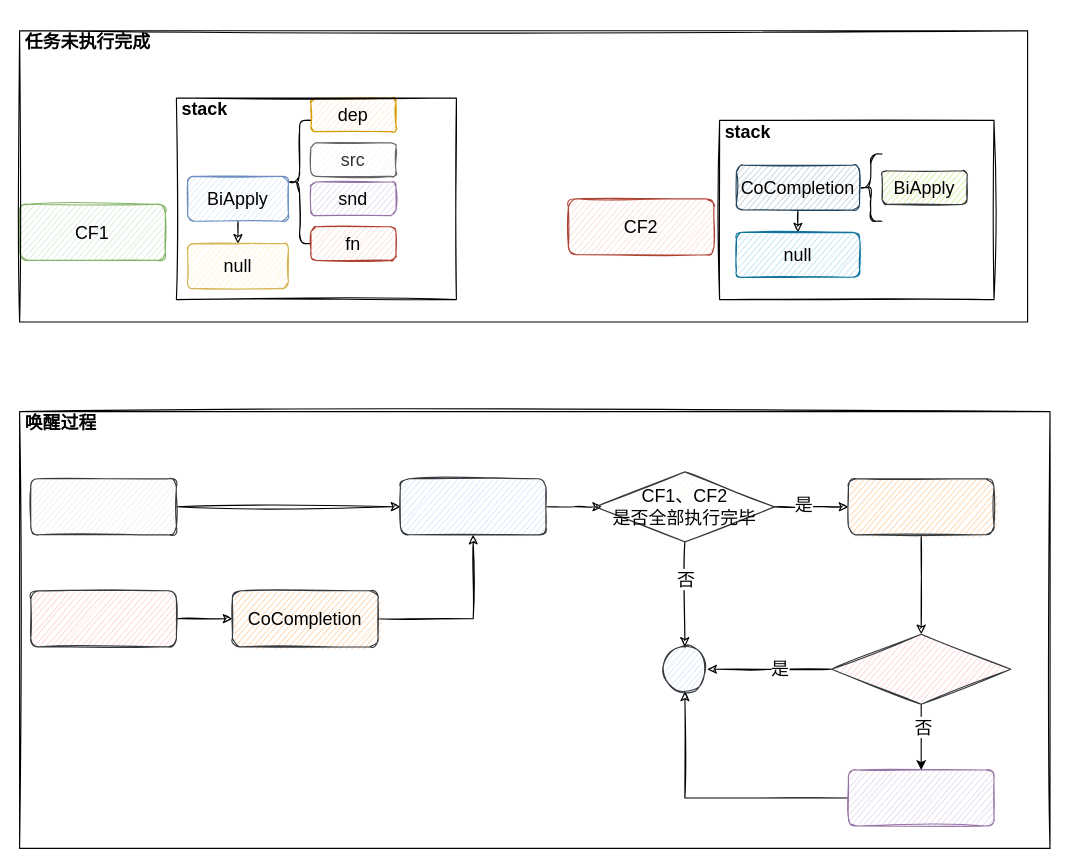
Image size: 1070x868. Some labels were removed from this diagram. The shapes that lost their labels are listed below. From the top down, each one's centre as x and y in pixels, then its label:
At point (103, 506): "CF1执行结束".
At point (472, 506): "BiApply.tryFire".
At point (920, 506): "dep.biApply".
At point (103, 618): "CF2执行结束".
At point (684, 669): "结束".
At point (920, 668): "是否已经被唤醒".
At point (920, 797): "CAS 修改唤醒状态".
